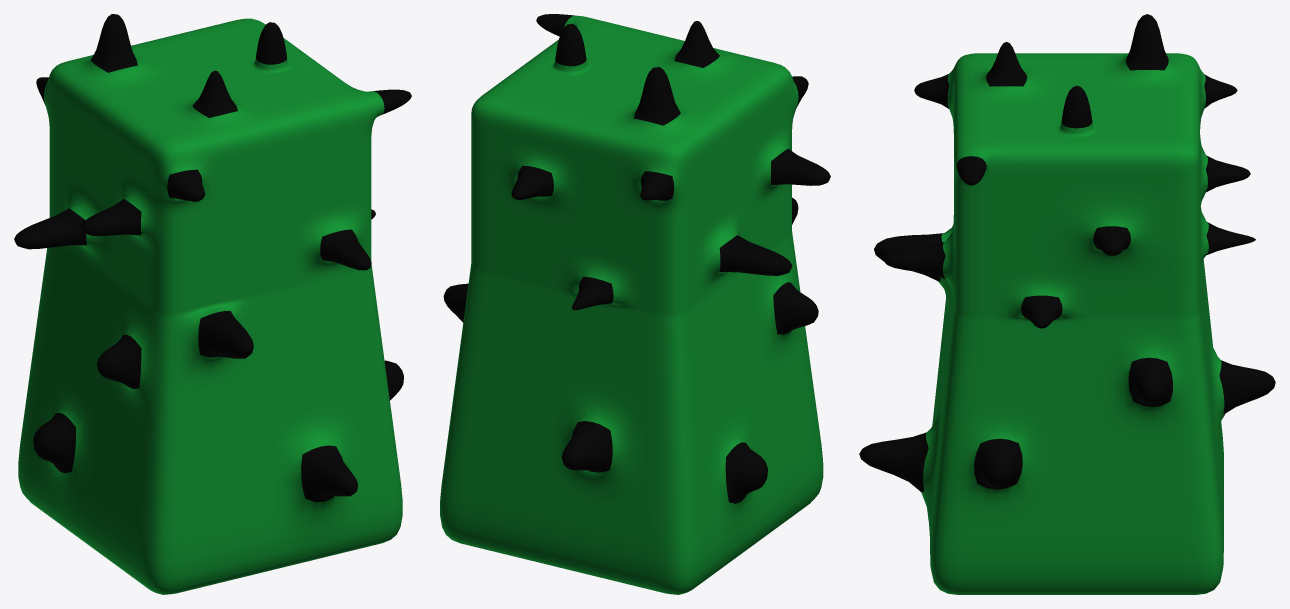
The model's file is cactus1.fbx.
The picture shows the model from 3 angles, left to right: view 1: azimuth 30°, elevation 25°; view 2: azimuth 150°, elevation 25°; view 3: azimuth 270°, elevation 25°; orthographic projection.
Visible parts, largest first — view 1: Cube; view 2: Cube; view 3: Cube.
Boxes of the visible parts, box(x1,y1,x2,y2) form: Cube: box(14, 14, 411, 594); Cube: box(440, 14, 830, 594); Cube: box(859, 14, 1275, 594).
Size of the model in its own units: 251 by 362 by 275.
